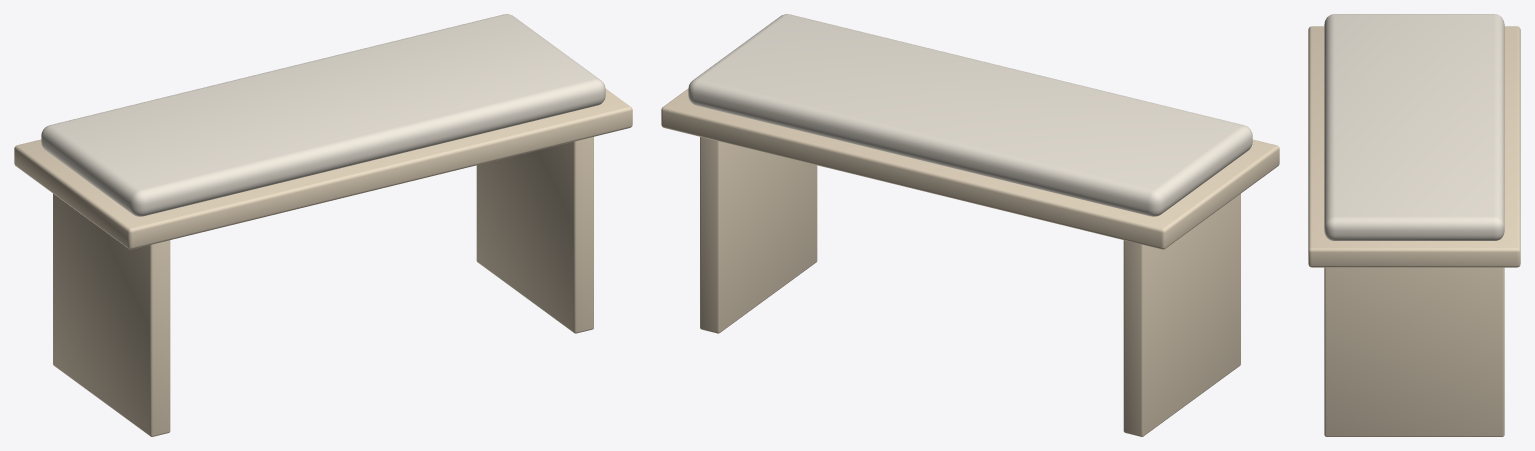
The model's file is mo_bench.glb.
3 views of the same model, side by side, from view 1: azimuth 30°, elevation 25°; view 2: azimuth 150°, elevation 25°; view 3: azimuth 270°, elevation 25° (orthographic). The views are drawn at different scales.
Parts seen in each view (by area): view 1: pad, leg, seat, leg.001; view 2: pad, leg, seat, leg.001; view 3: pad, leg.001, seat.
Boxes of the visible parts, box(x1,y1,x2,y2) form: pad: box(41, 14, 605, 216); leg: box(53, 193, 170, 436); seat: box(14, 89, 632, 249); leg.001: box(476, 137, 593, 333); pad: box(688, 14, 1252, 216); leg: box(1123, 193, 1240, 436); seat: box(661, 89, 1279, 249); leg.001: box(700, 137, 817, 333); pad: box(1324, 14, 1504, 240); leg.001: box(1324, 267, 1504, 436); seat: box(1308, 26, 1520, 267).
Size of the model in its own units: 1 by 0.465 by 0.4.
